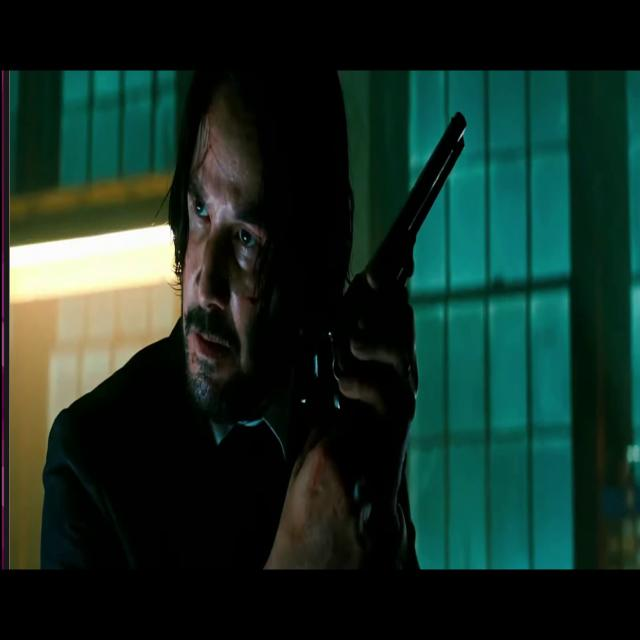weapons: (330, 108, 477, 431)
